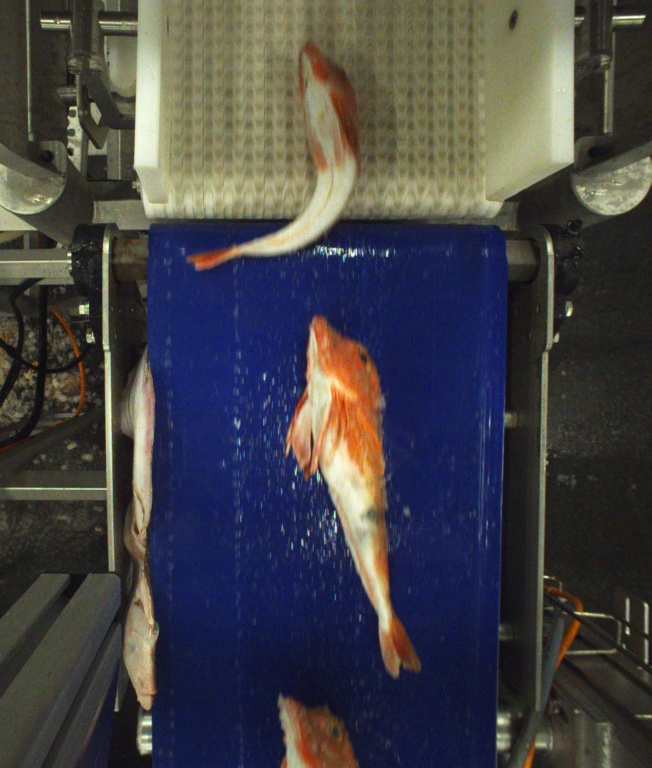GUU: (184, 40, 361, 271)
